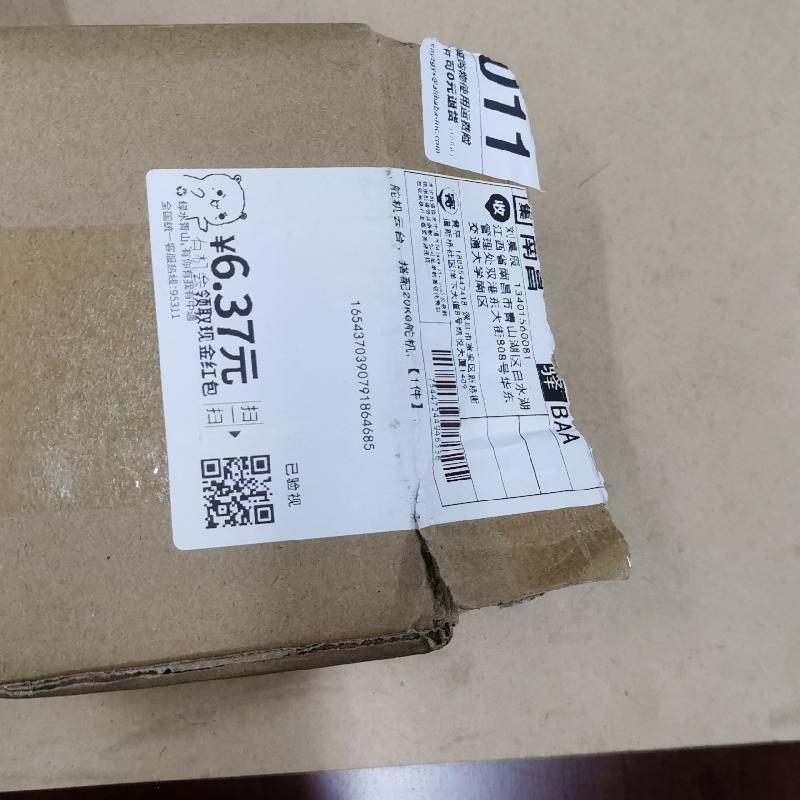boxes: (0, 11, 635, 693)
